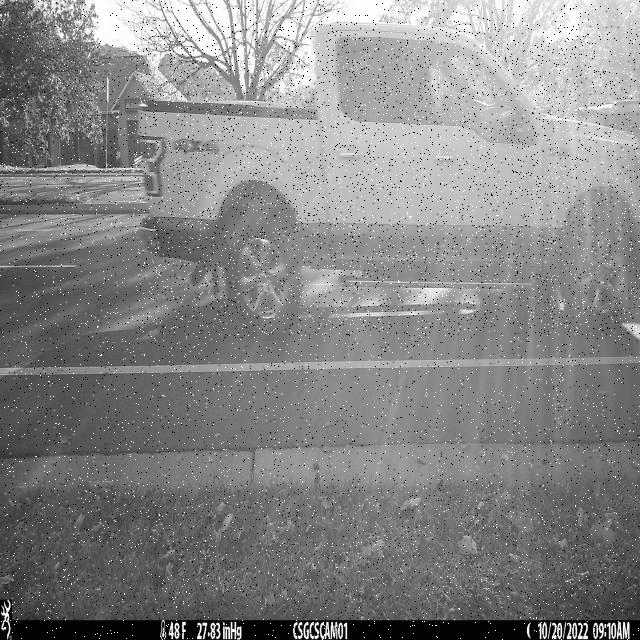Pickup: (135, 22, 640, 336)
